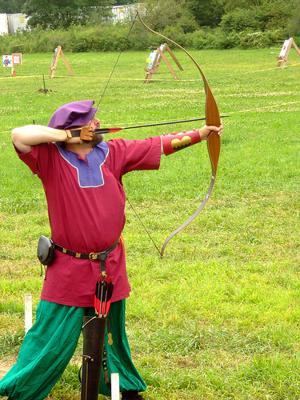person: (2, 104, 226, 400)
